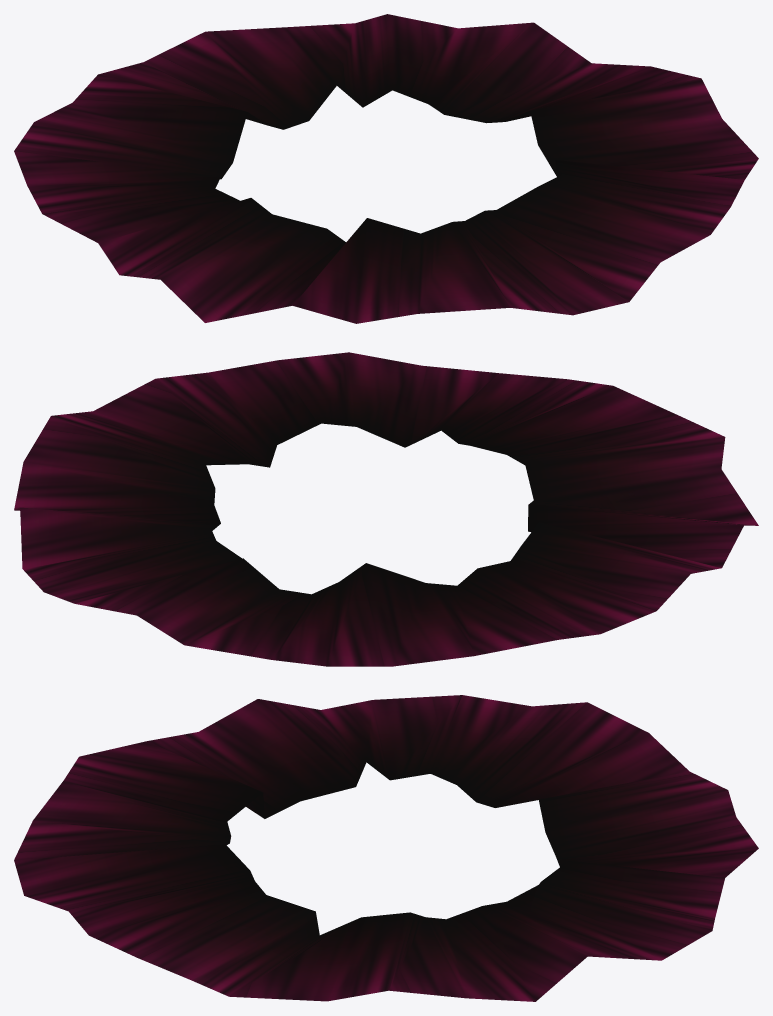
Rendered from SM_Wall_Trim.fbx.
3 renders of one model, top to bottom at view 1: azimuth 30°, elevation 25°; view 2: azimuth 150°, elevation 25°; view 3: azimuth 270°, elevation 25°, orthographic. The views are drawn at different scales.
Parts seen in each view (by area): view 1: Cylinder; view 2: Cylinder; view 3: Cylinder.
Part boxes in pixels (x1,y1,x2,y2): Cylinder: (14, 14, 758, 323); Cylinder: (14, 352, 758, 666); Cylinder: (14, 695, 758, 1001).
Bounding box in the file's own units: 8.49 × 0.4744 × 8.73.
